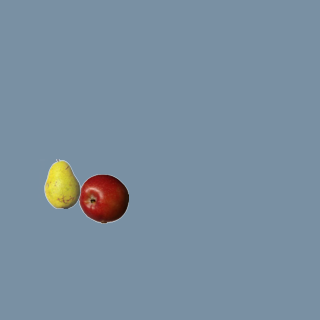Apple Braeburn: (78, 173, 128, 223)
Pear Monster: (37, 158, 87, 208)
